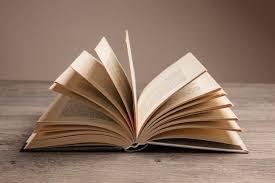book: (23, 27, 250, 153)
